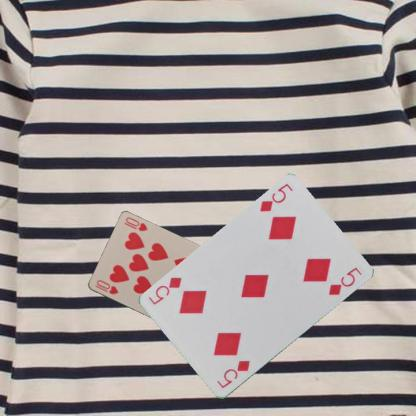10h: (92, 277, 119, 296)
5d: (214, 357, 251, 390), (257, 181, 294, 214)
